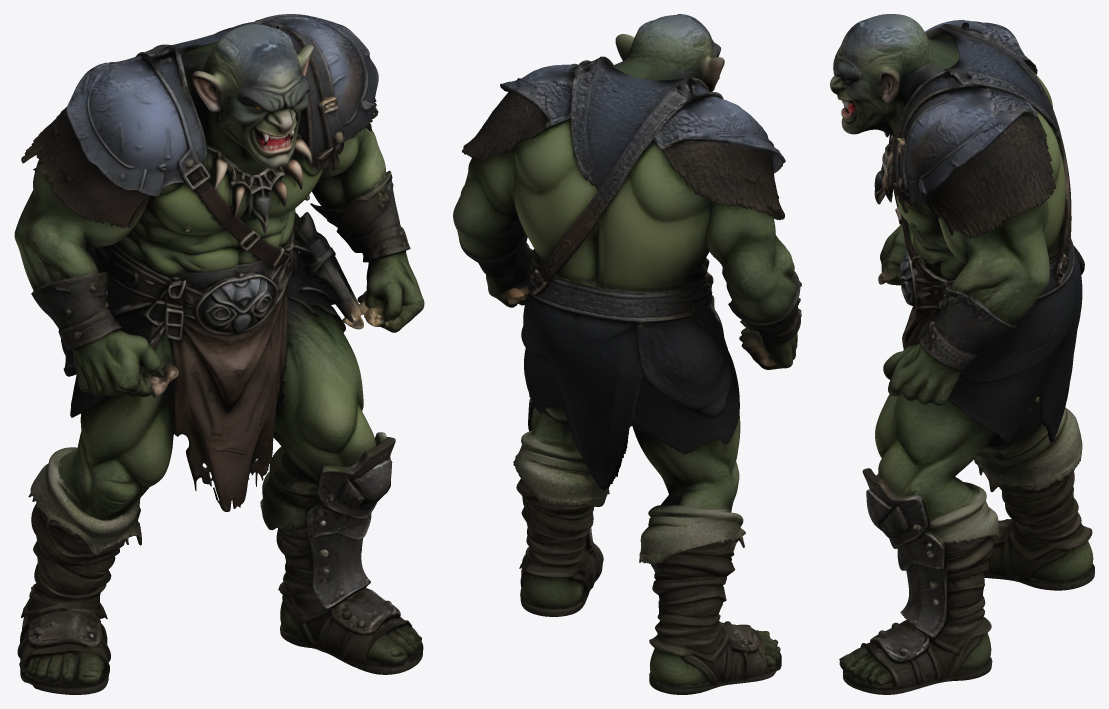
The model's file is orc.glb.
3 views of the same model, side by side, from view 1: azimuth 30°, elevation 25°; view 2: azimuth 150°, elevation 25°; view 3: azimuth 270°, elevation 25° (orthographic). The views are drawn at different scales.
Visible parts, largest first — view 1: material; view 2: material; view 3: material.
Boxes of the visible parts, x1=… form: material: x1=14, y1=14, x2=424, y2=694; material: x1=453, y1=14, x2=801, y2=694; material: x1=830, y1=14, x2=1094, y2=694.
Size of the model in its own units: 0.6072 by 1.05 by 0.4142.
Materials: 1 (1 with a texture image).
